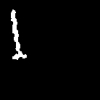half_double_crochet: (11, 10, 26, 59)
